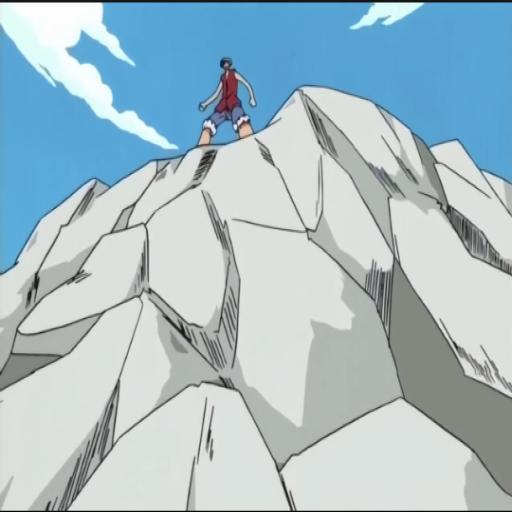Luffy: (193, 36, 265, 158)
